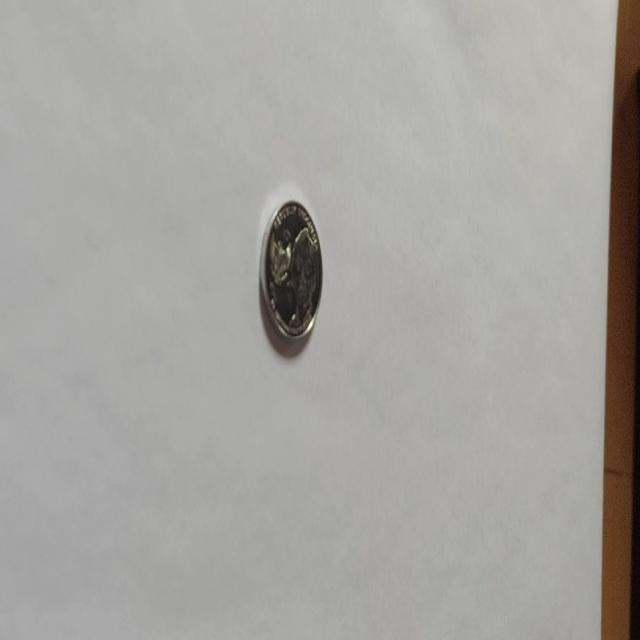dua ratus rupiah: (258, 198, 324, 346)
